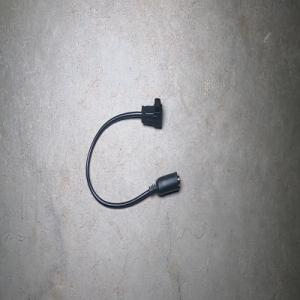Wire: (85, 97, 180, 209)
